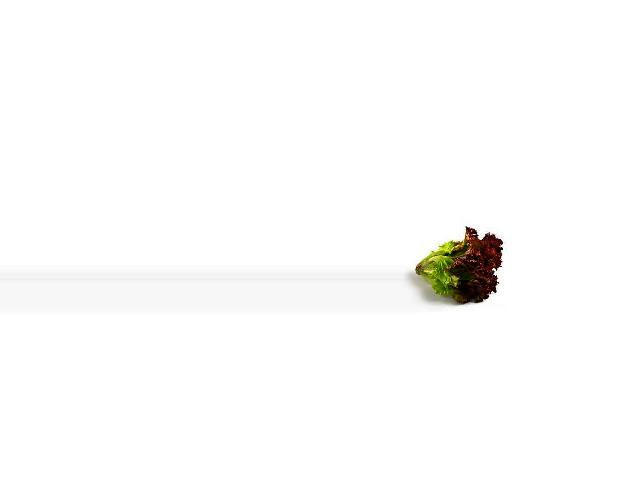lettuce: (404, 229, 507, 305)
